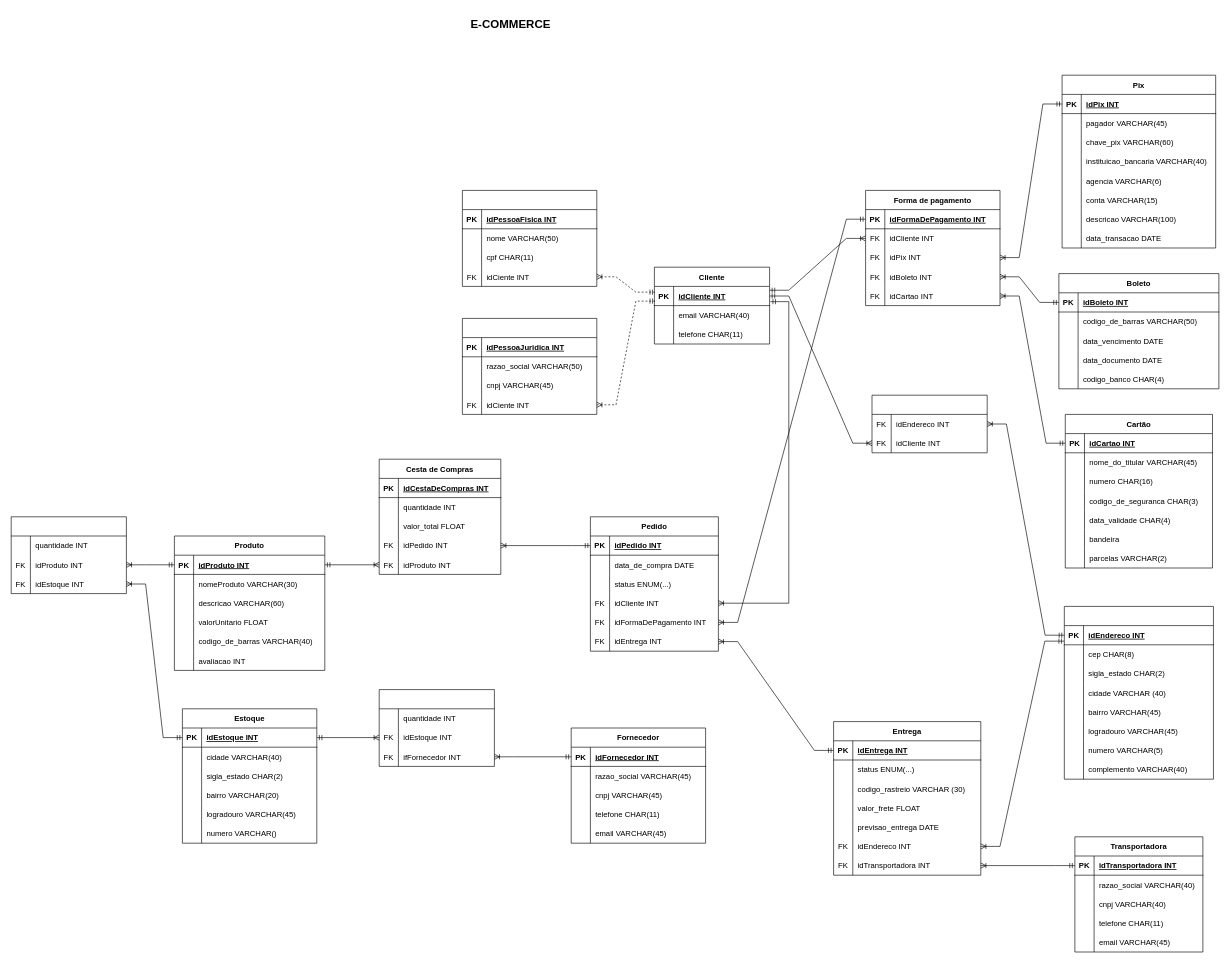
Some shapes in this 1230 by 963 pixel diagram are drawn without their labels. The shapes that lost their labels are listed below. From the top down, each one's box as (x1, y1, x2, y2) in pixels, then its label:
(462, 190, 597, 286): Pessoa física
(462, 318, 597, 414): Pessoa jurídica
(871, 395, 987, 453): Endereço_Cliente
(11, 516, 126, 594): Em estoque
(1064, 606, 1213, 779): Endereço
(379, 689, 494, 766): Fornecimento
